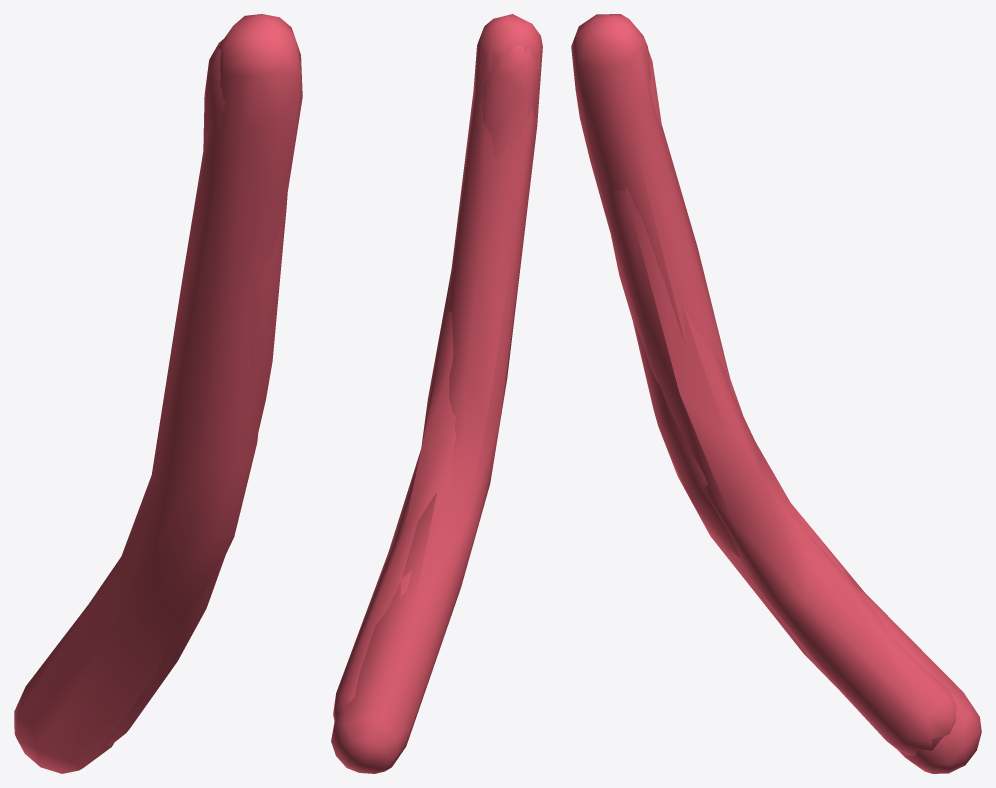
File: basilar.glb
The picture shows the model from 3 angles, left to right: view 1: azimuth 30°, elevation 25°; view 2: azimuth 150°, elevation 25°; view 3: azimuth 270°, elevation 25°; orthographic projection. The views are drawn at different scales.
Parts seen in each view (by area): view 1: grp1; view 2: grp1; view 3: grp1.
Boxes of the visible parts, box(x1,y1,x2,y2) form: grp1: box(14, 14, 302, 773); grp1: box(331, 14, 542, 773); grp1: box(571, 14, 981, 773).
Size of the model in its own units: 0.00355 by 0.0296 by 0.0146.
